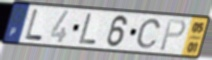4: (49, 9, 71, 45)
6: (106, 14, 129, 49)
C: (135, 18, 163, 50)
L: (24, 8, 44, 42), (78, 13, 98, 46)
P: (158, 18, 188, 53)
